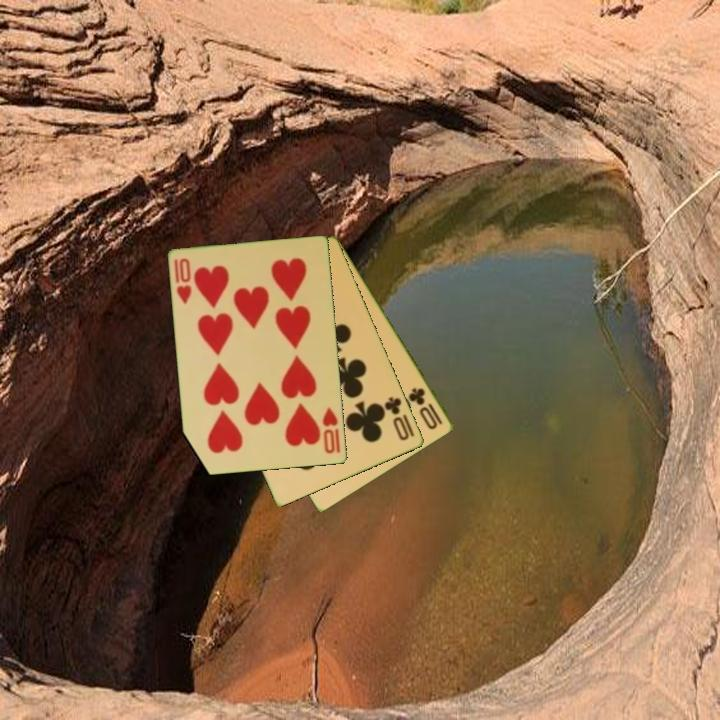10c: (406, 384, 446, 433), (381, 393, 412, 444)
10h: (319, 404, 343, 457), (171, 255, 195, 307)
